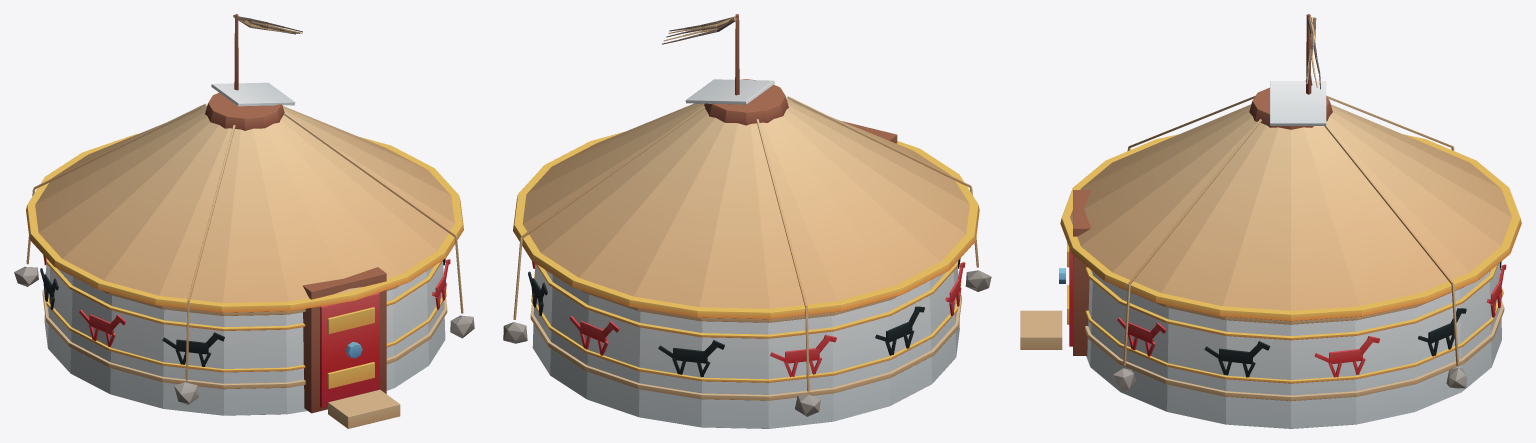
The model's file is hoofborn_yurt.glb.
3 renders of one model, left to right at view 1: azimuth 30°, elevation 25°; view 2: azimuth 150°, elevation 25°; view 3: azimuth 270°, elevation 25°, orthographic. The views are drawn at different scales.
Visible parts, largest first — view 1: hoofborn_yurt; view 2: hoofborn_yurt; view 3: hoofborn_yurt.
Boxes of the visible parts, left/top/right/bottom form: hoofborn_yurt: left=14, top=14, right=474, bottom=428; hoofborn_yurt: left=503, top=14, right=991, bottom=428; hoofborn_yurt: left=1020, top=14, right=1521, bottom=428.
Size of the model in its own units: 6.56 by 5.1 by 7.13.
1 material, 1 textured.
